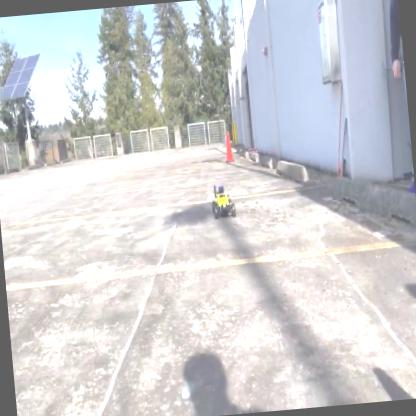cone: (223, 130, 234, 163)
mushr_car: (209, 178, 239, 224)
